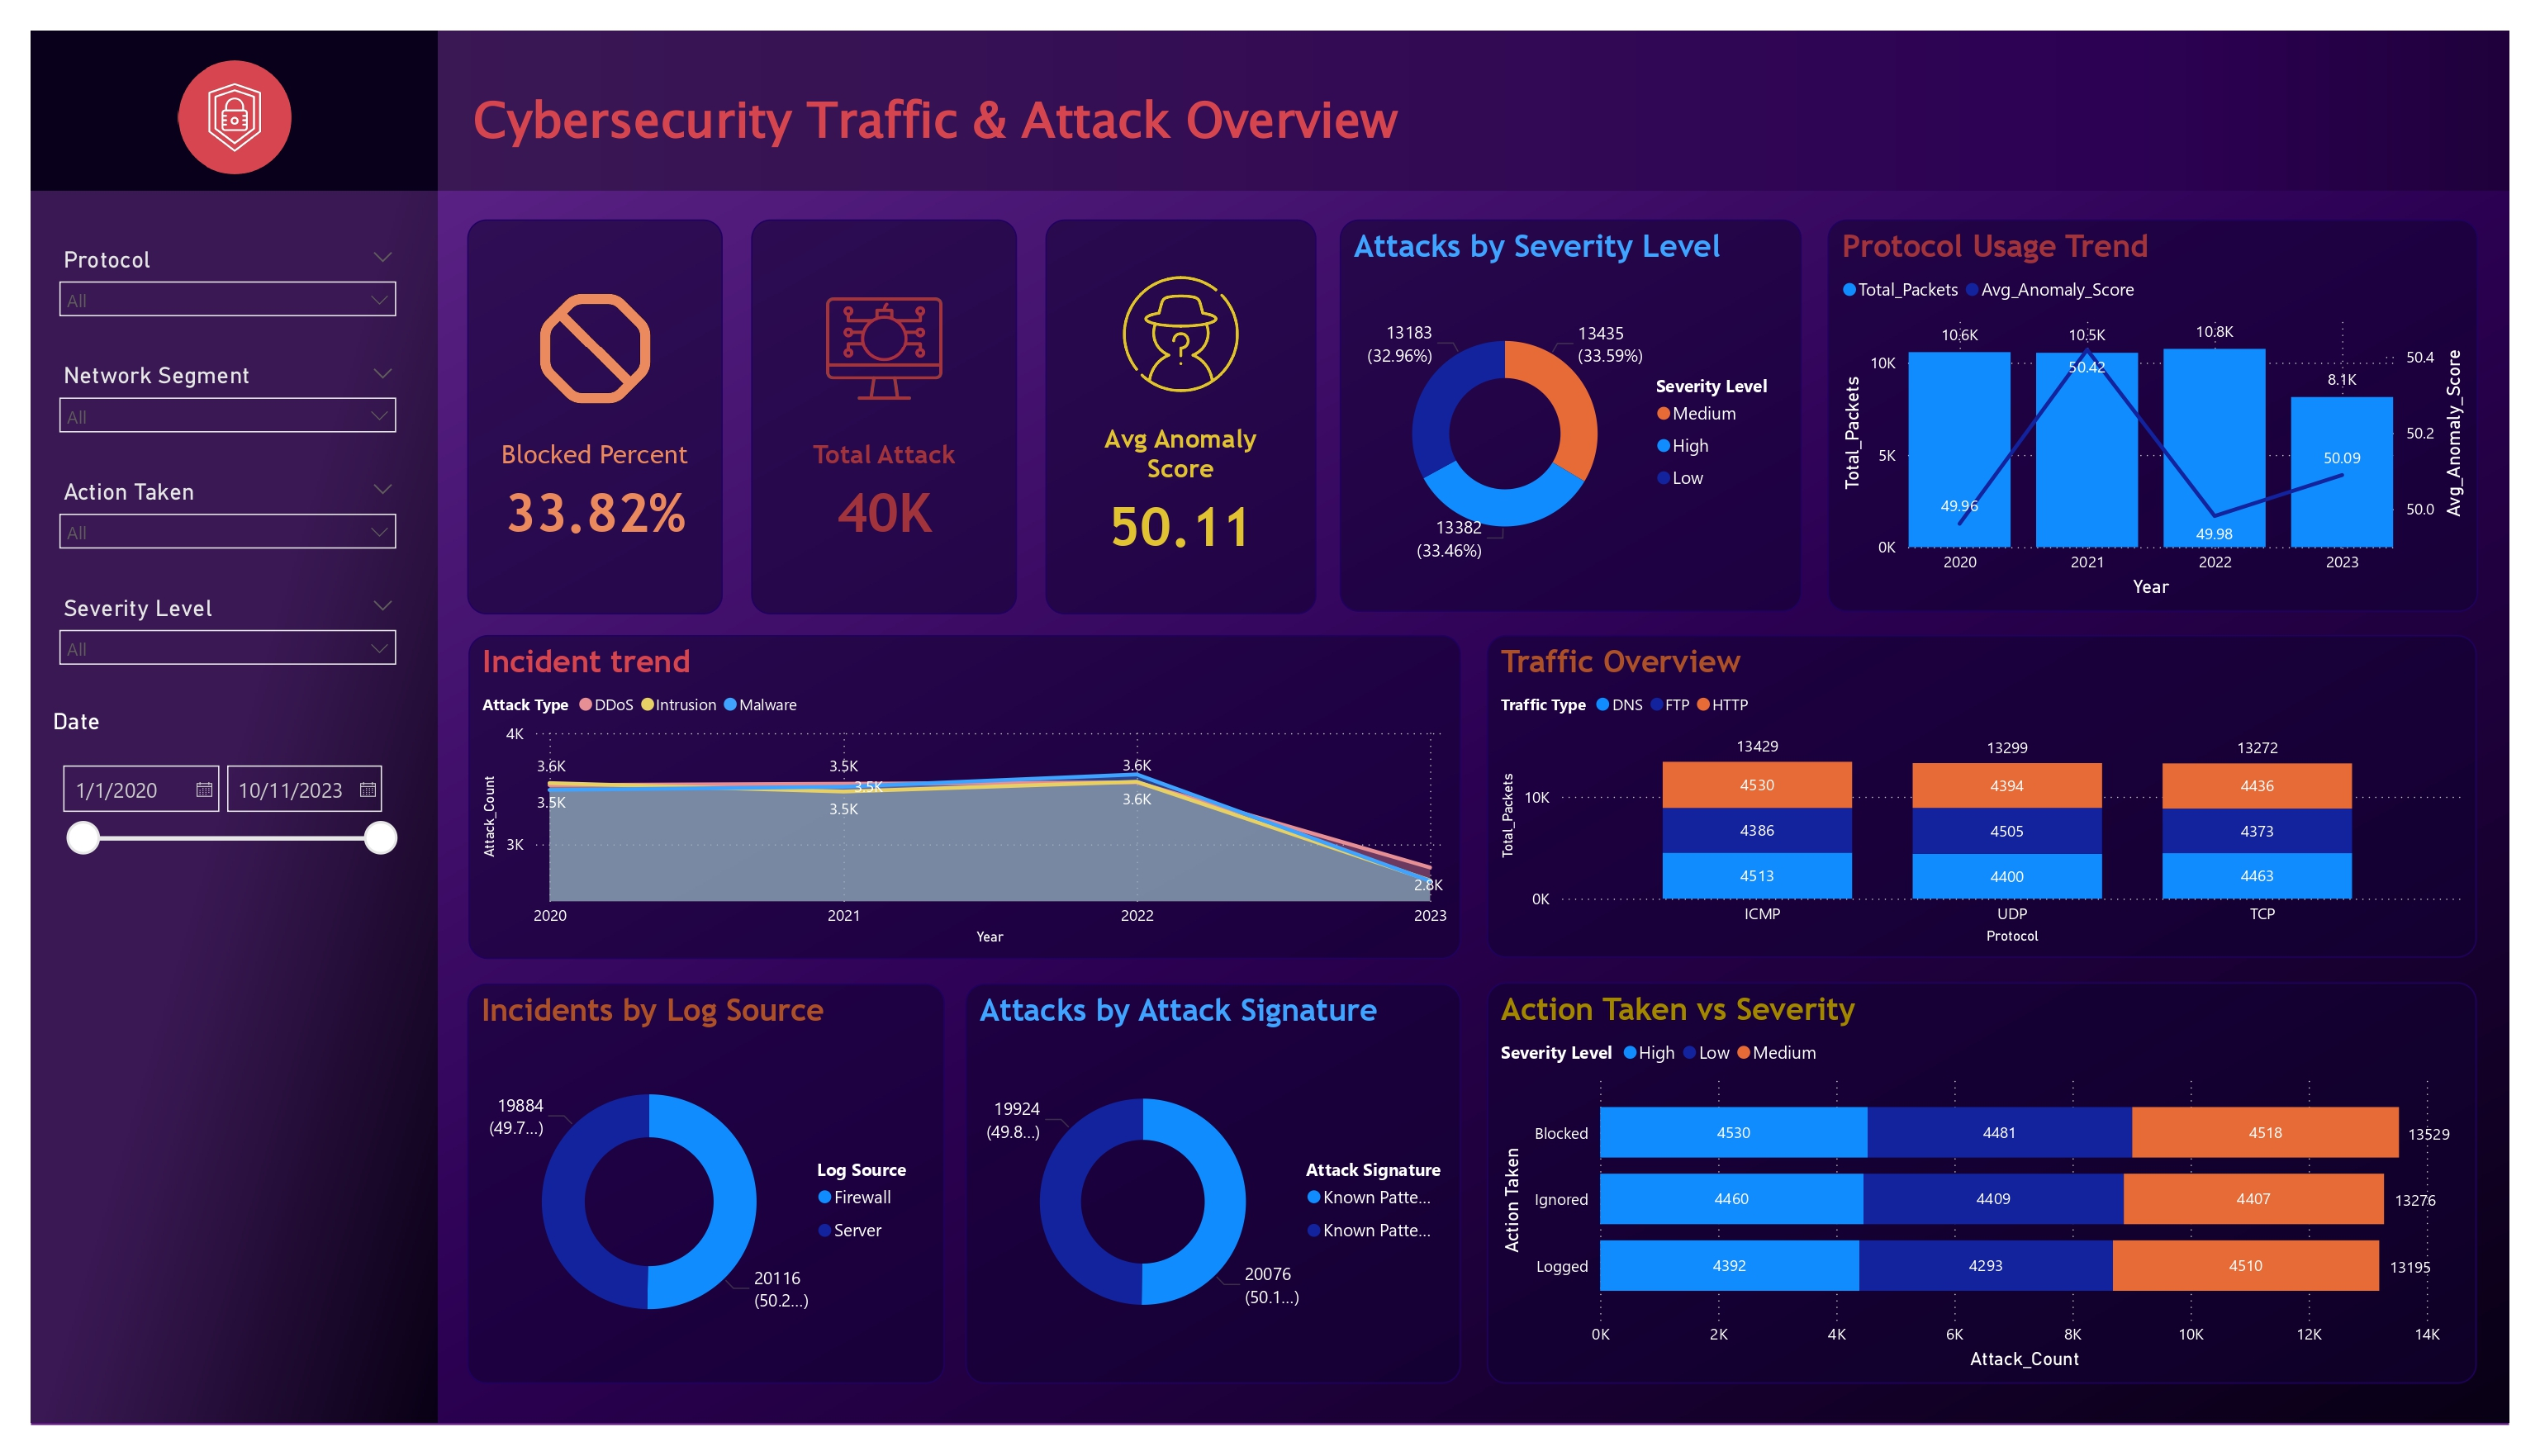

Layout of this report page (visuals, bound fields, positions):
{"tool":"powerbi","page":{"name":"Overview","canvas":[1920,1080],"ordinal":0},"visuals":[{"type":"cardVisual","fields":{"Data":["Date.Attack_Count"]},"box":[558,146,206,306],"z":0},{"type":"cardVisual","fields":{"Data":["Date.Avg_Anomaly_Score"]},"box":[786,146,210,306],"z":1000},{"type":"cardVisual","fields":{"Data":["Date.Blocked_Percent"]},"box":[338,146,198,306],"z":2000},{"type":"lineChart","title":"Incident trend","fields":{"Category":["Date.Date.Variation.Date Hierarchy.Year","Date.Date.Variation.Date Hierarchy.Quarter","Date.Date.Variation.Date Hierarchy.Month","Date.Date.Variation.Date Hierarchy.Day"],"Y":["Date.Attack_Count"],"Series":["cybersecurity_attacks.Attack Type"]},"box":[338.7,467.8,769.7,251.2],"z":3000},{"type":"donutChart","title":"Incidents by Log Source","fields":{"Category":["cybersecurity_attacks.Log Source"],"Y":["Date.Attack_Count"]},"box":[338,738,370,310],"z":4000},{"type":"donutChart","title":"Attacks by Attack Signature","fields":{"Category":["cybersecurity_attacks.Attack Signature"],"Y":["Date.Attack_Count"]},"box":[724,738,384,310],"z":5000},{"type":"barChart","title":"Action Taken vs Severity","fields":{"Category":["cybersecurity_attacks.Action Taken"],"Series":["cybersecurity_attacks.Severity Level"],"Y":["Date.Attack_Count"]},"box":[1128.3,736.7,766.7,311.7],"z":6000},{"type":"columnChart","title":"Traffic Overview","fields":{"Category":["cybersecurity_attacks.Protocol"],"Series":["cybersecurity_attacks.Traffic Type"],"Y":["Date.Total_Packets"]},"box":[1128.3,468.3,766.7,250],"z":7000},{"type":"donutChart","title":"Attacks by Severity Level","fields":{"Category":["cybersecurity_attacks.Severity Level"],"Y":["Date.Attack_Count"]},"box":[1014,146,358,304],"z":8000},{"type":"lineStackedColumnComboChart","title":"Protocol Usage Trend","fields":{"Category":["Date.Date.Variation.Date Hierarchy.Year","Date.Date.Variation.Date Hierarchy.Quarter","Date.Date.Variation.Date Hierarchy.Month","Date.Date.Variation.Date Hierarchy.Day"],"Y":["Date.Total_Packets"],"Y2":["Date.Avg_Anomaly_Score"]},"box":[1392,146,504,304],"z":9000},{"type":"slicer","title":"    Date","fields":{"Values":["Date.Date"]},"box":[12,524,280,124],"z":10000},{"type":"slicer","fields":{"Values":["cybersecurity_attacks.Action Taken"]},"box":[11.5,341.1,281.1,89.9],"z":11000},{"type":"slicer","fields":{"Values":["cybersecurity_attacks.Severity Level"]},"box":[11.5,430.9,281.1,92.2],"z":12000},{"type":"slicer","fields":{"Values":["cybersecurity_attacks.Protocol"]},"box":[11.5,161.3,281.1,89.9],"z":13000},{"type":"slicer","fields":{"Values":["cybersecurity_attacks.Network Segment"]},"box":[11.5,251.2,281.1,89.9],"z":14000},{"type":"textbox","box":[338,36,854,80],"z":15000},{"type":"image","box":[60,18,182,98],"z":16000}]}

Visuals, with their boxes in screenshot pixels (x1, y1, x2, y2):
cardVisual - Date.Attack_Count: box=[751, 220, 1017, 614]
cardVisual - Date.Avg_Anomaly_Score: box=[1046, 220, 1317, 614]
cardVisual - Date.Blocked_Percent: box=[468, 220, 723, 614]
"Incident trend" lineChart: box=[468, 635, 1461, 959]
"Incidents by Log Source" donutChart: box=[468, 984, 945, 1383]
"Attacks by Attack Signature" donutChart: box=[966, 984, 1461, 1383]
"Action Taken vs Severity" barChart: box=[1487, 982, 2476, 1384]
"Traffic Overview" columnChart: box=[1487, 635, 2476, 958]
"Attacks by Severity Level" donutChart: box=[1340, 220, 1802, 612]
"Protocol Usage Trend" lineStackedColumnComboChart: box=[1827, 220, 2478, 612]
"    Date" slicer: box=[46, 707, 408, 867]
slicer - cybersecurity_attacks.Action Taken: box=[45, 472, 409, 587]
slicer - cybersecurity_attacks.Severity Level: box=[45, 587, 409, 706]
slicer - cybersecurity_attacks.Protocol: box=[45, 240, 409, 355]
slicer - cybersecurity_attacks.Network Segment: box=[45, 355, 409, 472]
textbox: box=[468, 78, 1569, 181]
image: box=[108, 55, 344, 181]
